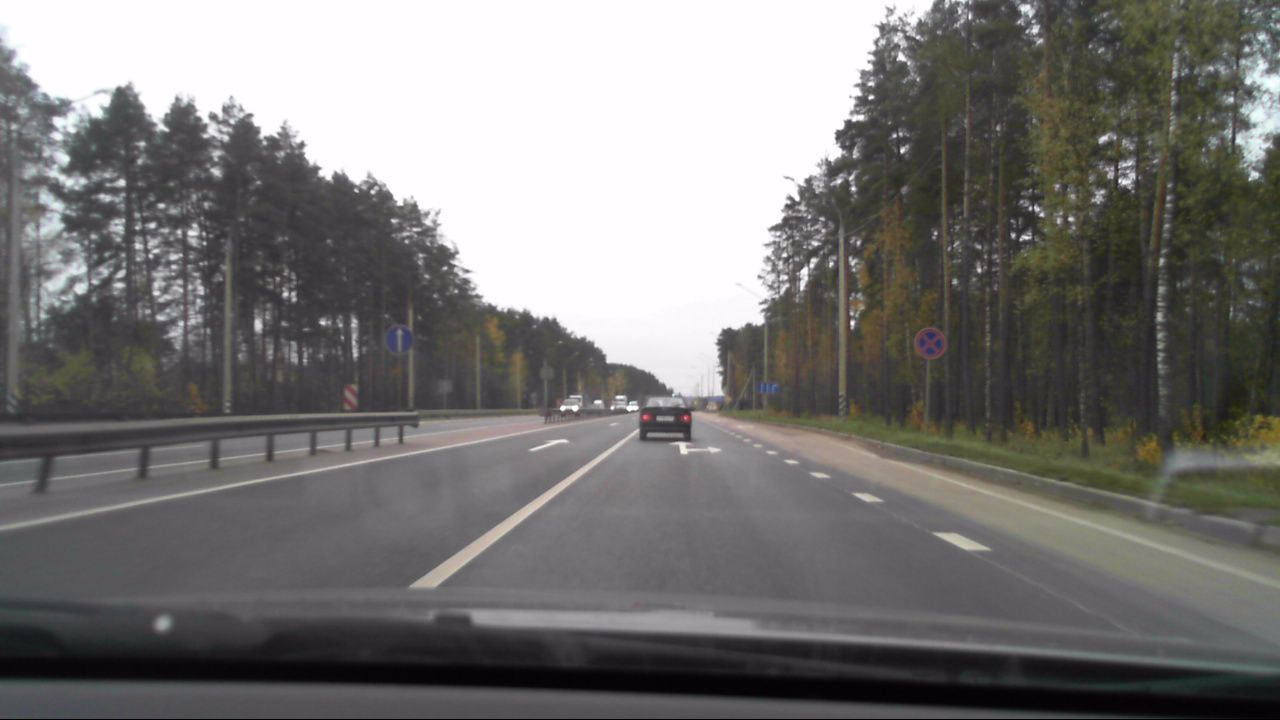No Parking: (913, 327, 947, 362)
